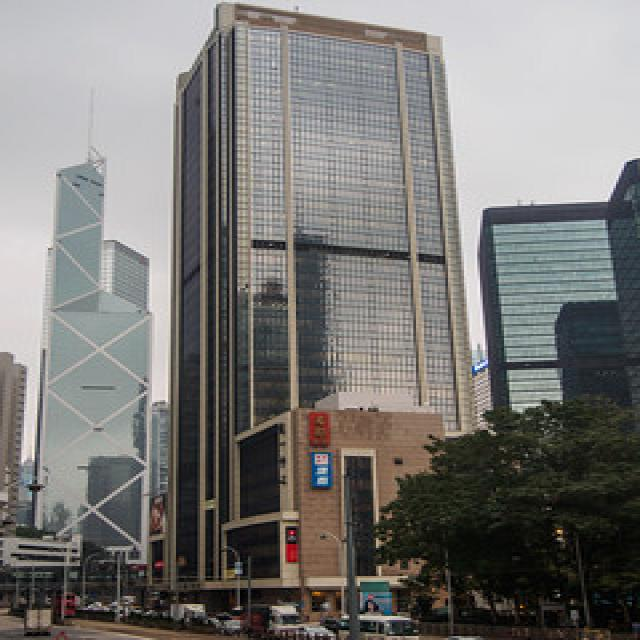Normal_building: (164, 2, 479, 588), (21, 152, 155, 576)
